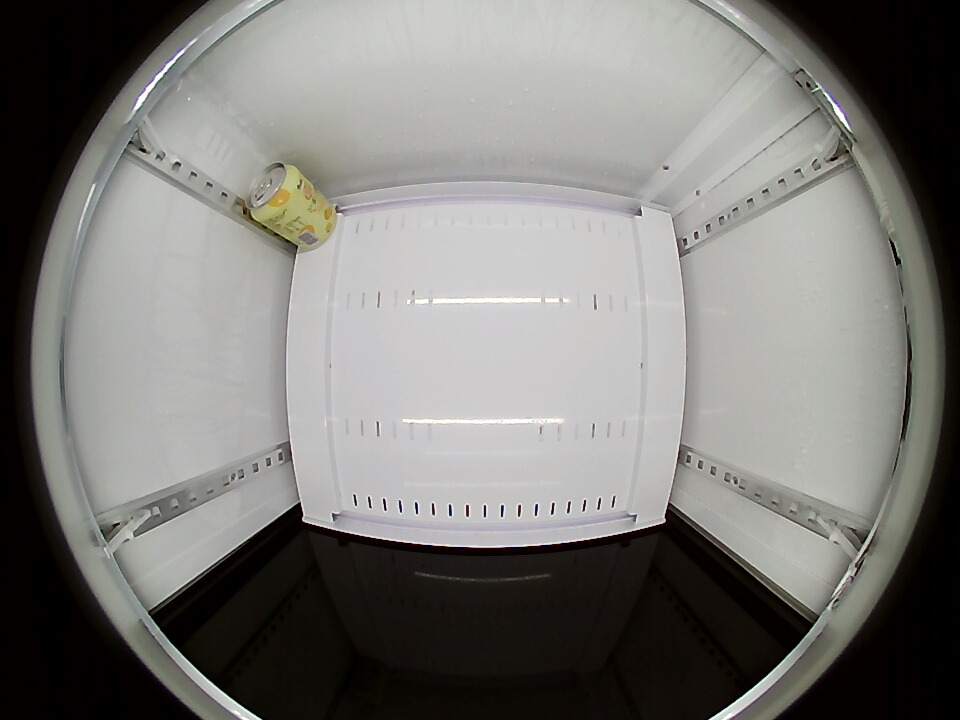mangguoxiaolao: (245, 162, 303, 224)
